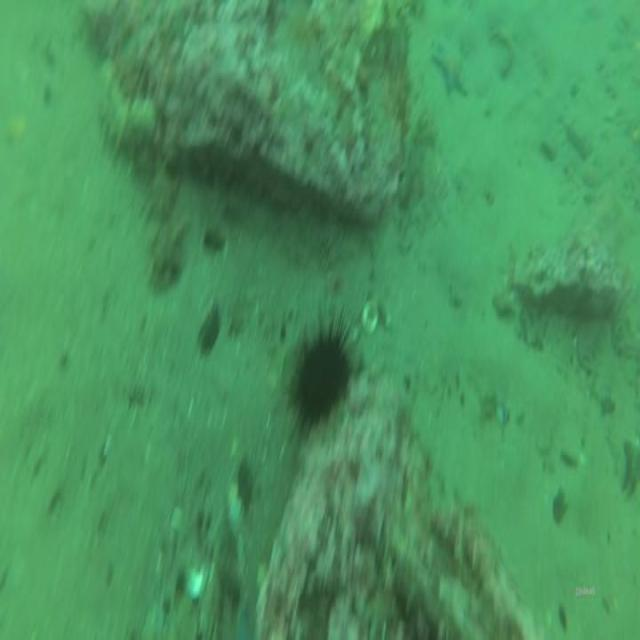echinus: (295, 337, 349, 422)
holothurian: (102, 63, 156, 155)
starfish: (432, 32, 468, 96)
